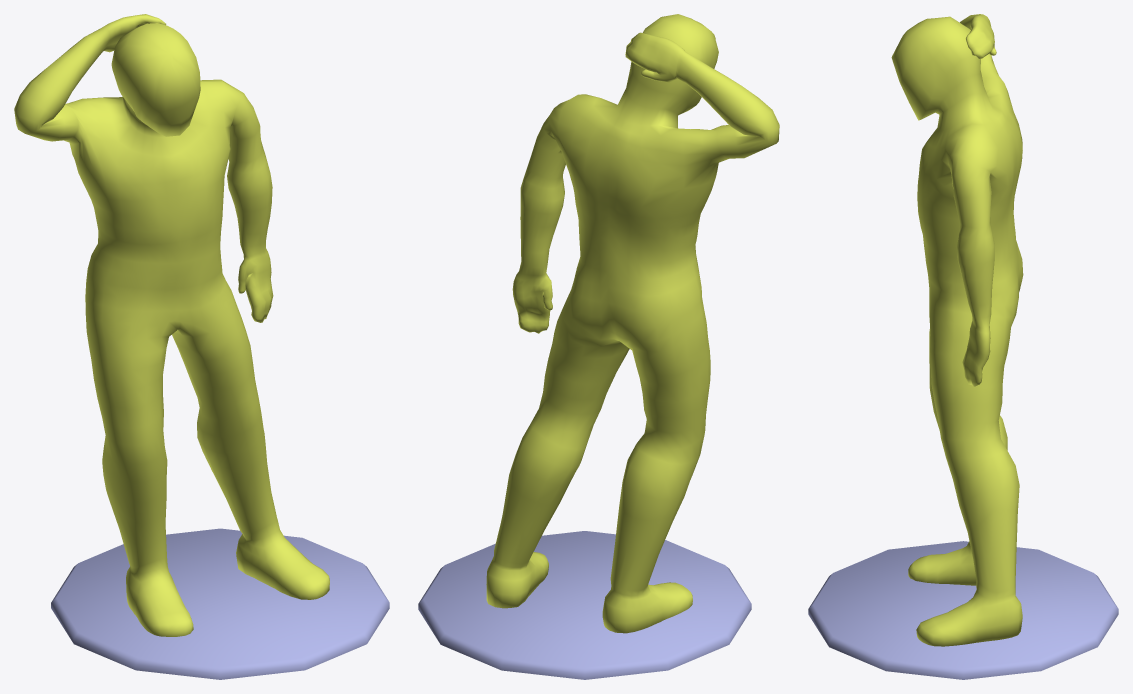
File: mannequin_5.fbx
3 renders of one model, left to right at view 1: azimuth 30°, elevation 25°; view 2: azimuth 150°, elevation 25°; view 3: azimuth 270°, elevation 25°, orthographic. The views are drawn at different scales.
Visible parts, largest first — view 1: mannequin_5; view 2: mannequin_5; view 3: mannequin_5.
Boxes of the visible parts, x1=… form: mannequin_5: x1=14, y1=14, x2=389, y2=679; mannequin_5: x1=418, y1=14, x2=779, y2=679; mannequin_5: x1=808, y1=14, x2=1118, y2=679.
Size of the model in its own units: 7.92 by 13.38 by 6.73.
